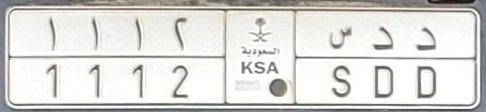1: (128, 15, 151, 101), (85, 17, 109, 99), (44, 13, 66, 99)
2: (168, 16, 192, 98)
D: (413, 26, 442, 99), (370, 26, 394, 100)
S: (329, 25, 353, 101)
